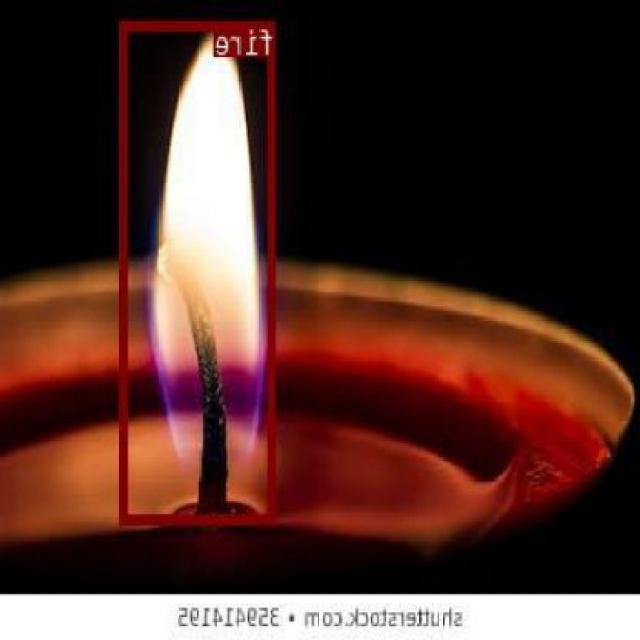fire: (122, 20, 278, 522)
